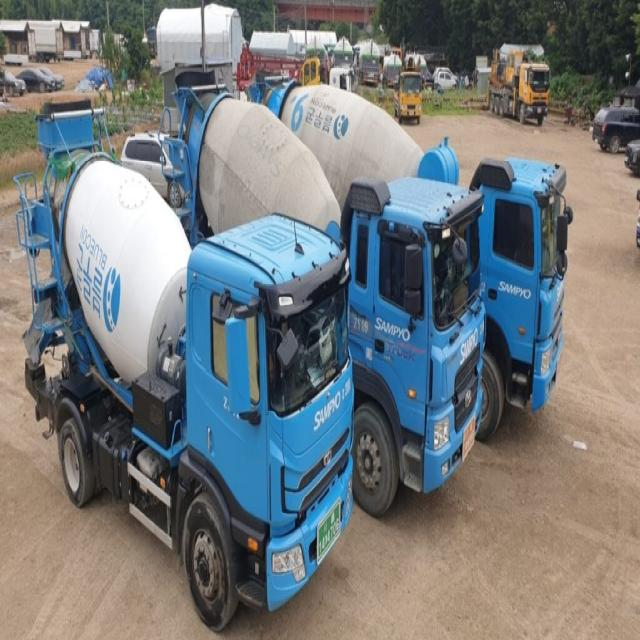Mixer Truck: (12, 97, 355, 635), (158, 68, 487, 520), (242, 70, 568, 448)
